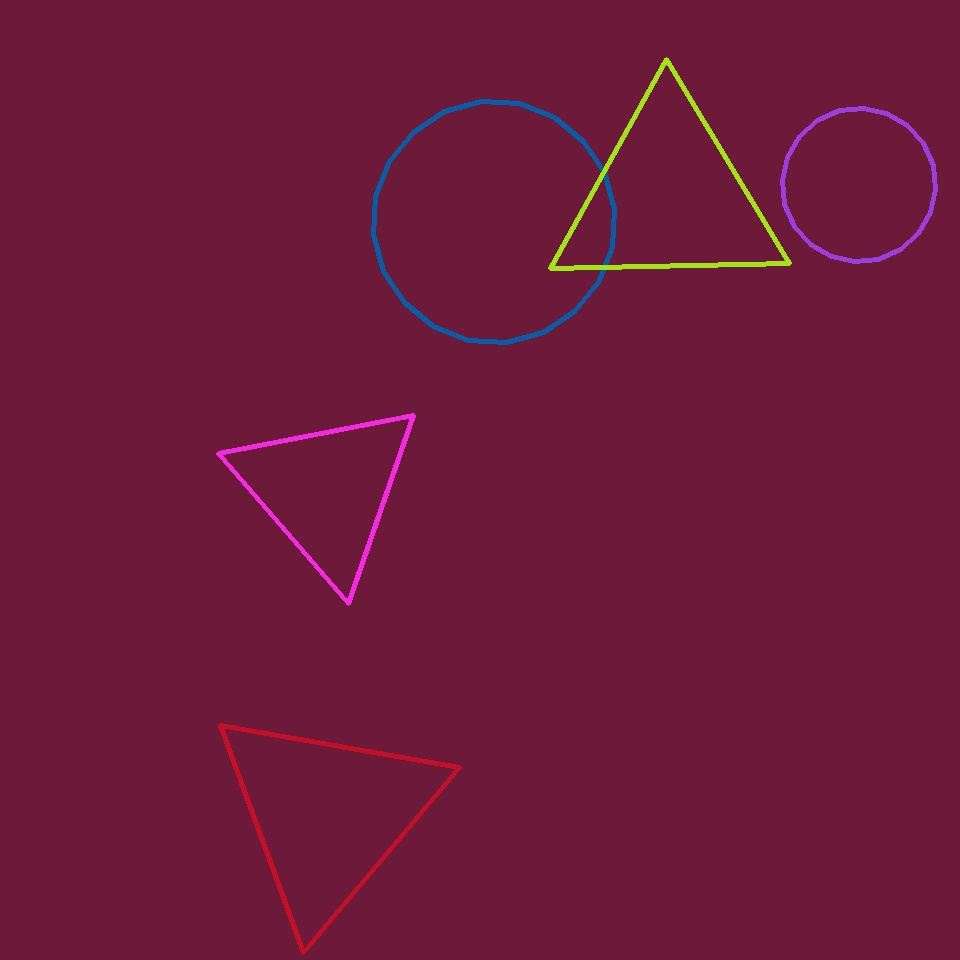circle: (208, 702, 448, 929), (550, 92, 788, 302), (230, 397, 424, 585)
triangle: (374, 102, 614, 343), (782, 109, 936, 262)
